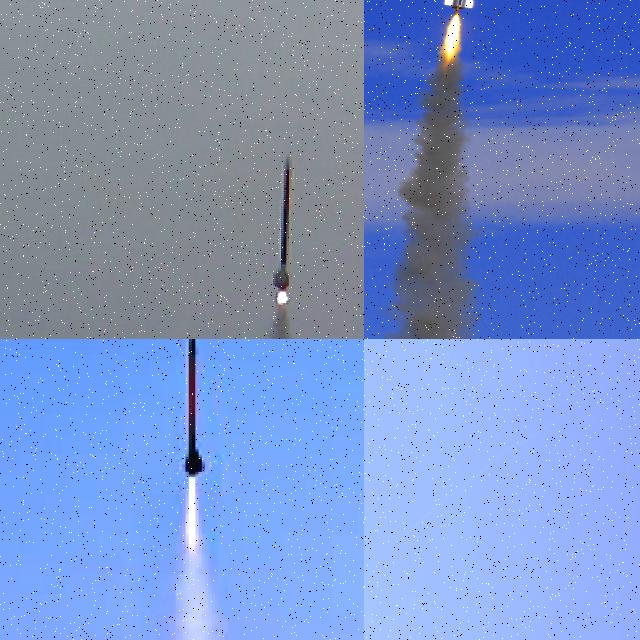Rocket: (178, 339, 210, 479), (271, 153, 292, 290), (396, 541, 400, 545)
